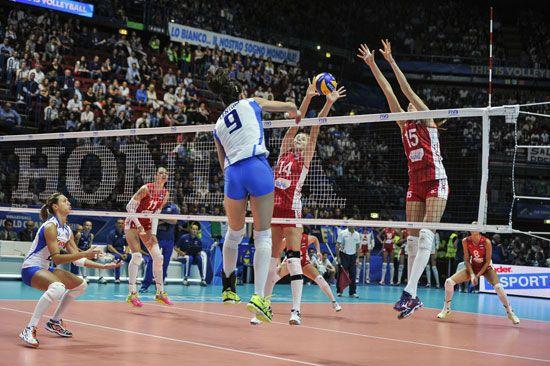ballon_volley: (312, 71, 337, 96)
